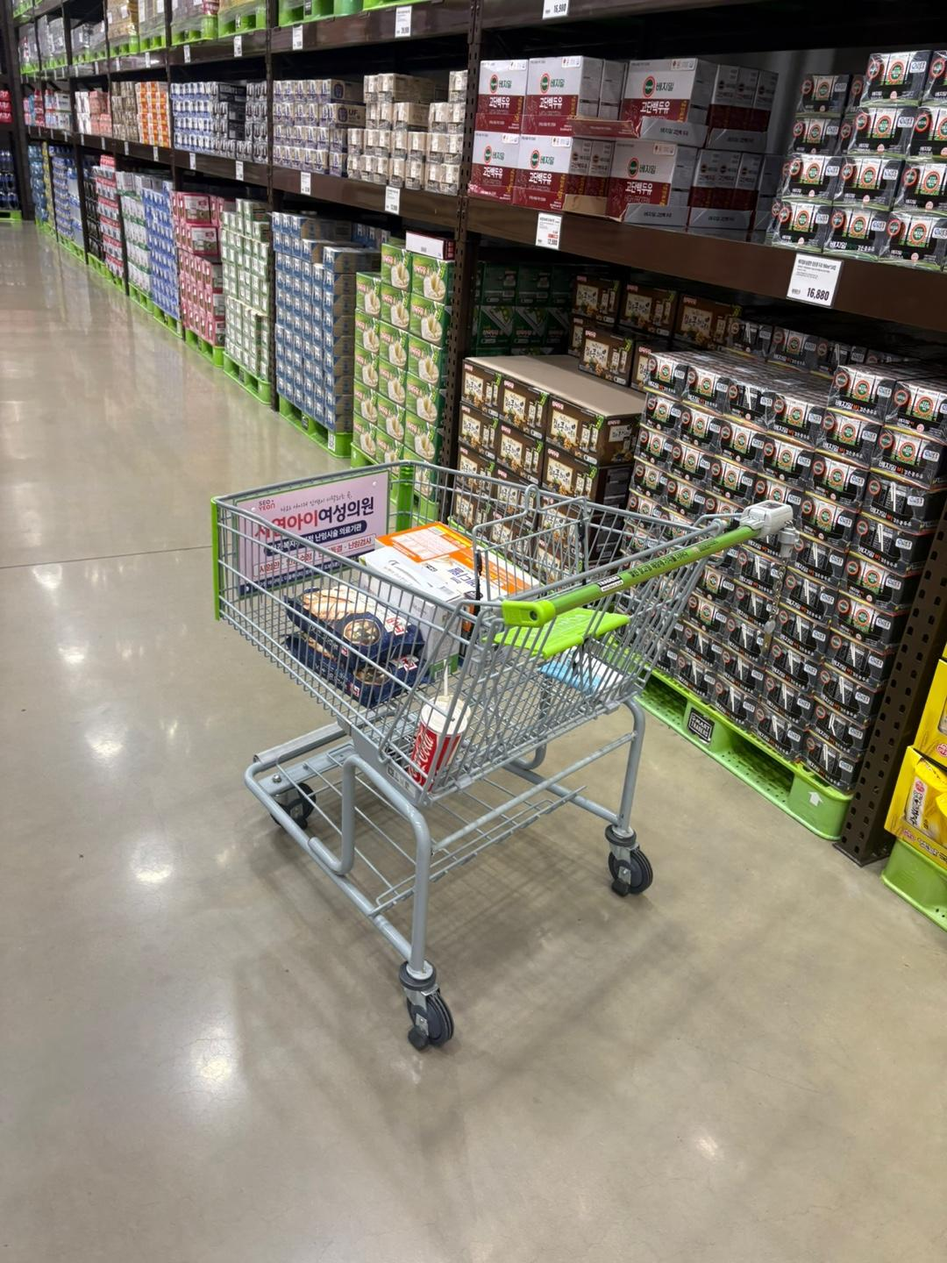fully_cart: (204, 449, 819, 1066)
